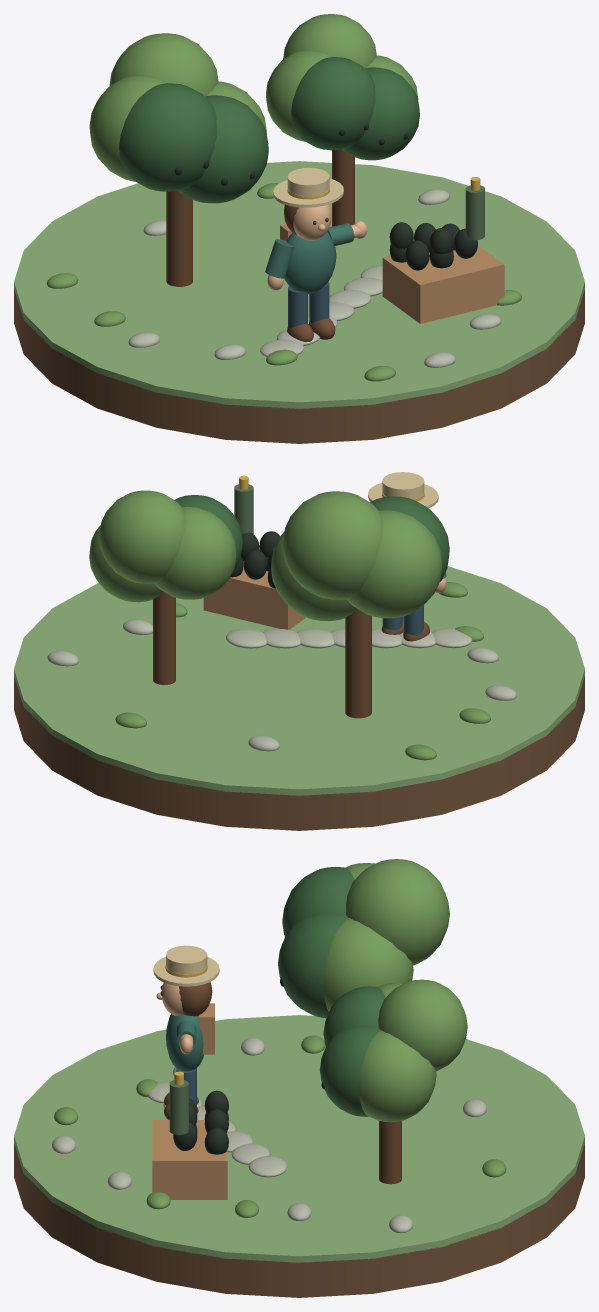
File: olive.glb
3 renders of one model, top to bottom at view 1: azimuth 30°, elevation 25°; view 2: azimuth 150°, elevation 25°; view 3: azimuth 270°, elevation 25°, orthographic.
Visible parts, largest first — view 1: grass cylinder, leaf sphere (×4), soil cylinder, lightLeaf sphere (×5), wood box, trim cylinder (×2), cloth sphere, cream cylinder (×2), denim cylinder (×2), skin sphere, glass cylinder, cloth cylinder (+2 smaller); view 2: grass cylinder, lightLeaf sphere (×6), soil cylinder, trim cylinder (×2), wood box, stone sphere (×5), leaf sphere (×2), cream cylinder (×2), glass cylinder, black sphere, denim cylinder; view 3: grass cylinder, lightLeaf sphere (×4), soil cylinder, leaf sphere (×4), wood box (×2), cream cylinder (×2), trim cylinder, cloth sphere, stone sphere (×2), glass cylinder, trim sphere.
Boxes of the visible parts, x1,y1,x2,y2 form: grass cylinder: (14,161,584,409); leaf sphere (×4): (119,57,419,203); soil cylinder: (14,289,584,443); lightLeaf sphere (×5): (89,14,376,181); wood box: (382,245,504,323); trim cylinder (×2): (166,149,354,286); cloth sphere: (284,231,336,294); cream cylinder (×2): (273,167,343,207); denim cylinder (×2): (288,282,329,328); skin sphere: (293,204,331,240); glass cylinder: (465,185,484,240); cloth cylinder: (265,239,294,278); grass cylinder: (14,566,584,796); lightLeaf sphere (×6): (89,490,442,621); soil cylinder: (14,676,584,830); trim cylinder (×2): (153,591,371,718); wood box: (203,548,305,629); stone sphere (×5): (226,628,472,648); leaf sphere (×2): (174,495,449,581); cream cylinder (×2): (368,472,438,508); glass cylinder: (234,484,253,534); black sphere: (243,549,267,579); denim cylinder: (404,605,423,635); grass cylinder: (14,1015,584,1263); lightLeaf sphere (×4): (323,859,467,1122); soil cylinder: (14,1143,584,1297); leaf sphere (×4): (278,867,385,1116); wood box (×2): (152,1003,227,1199); cream cylinder (×2): (153,945,219,986); trim cylinder: (379,1121,401,1184); cloth sphere: (166,1014,203,1071); stone sphere (×2): (231,1143,287,1177); glass cylinder: (169,1080,188,1134); trim sphere: (179,982,212,1016).
Bounding box in the file's own units: 4.7 × 2.46 × 4.7.
